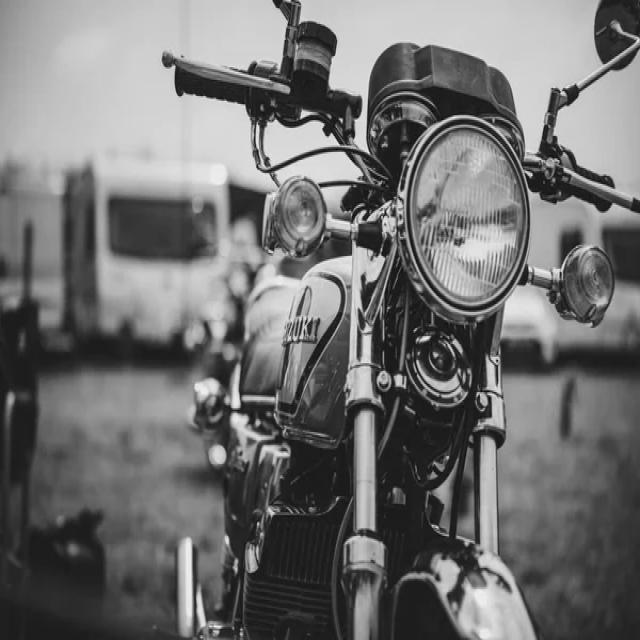Motorcycle: (164, 0, 640, 639)
